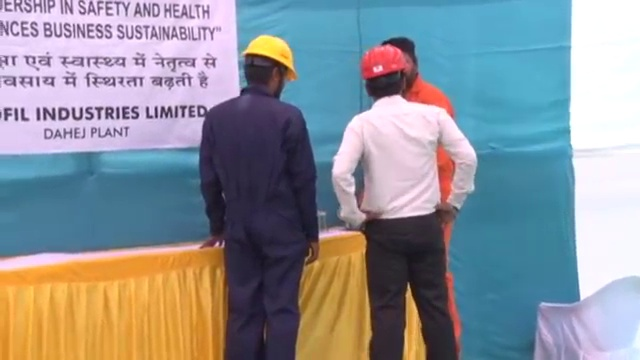helmet: (242, 32, 298, 79), (359, 45, 407, 79)
helmet_off: (394, 36, 420, 88)
helmet_on: (241, 32, 298, 98), (358, 43, 408, 103)
person: (330, 44, 480, 360), (196, 31, 320, 360), (385, 35, 457, 235)
